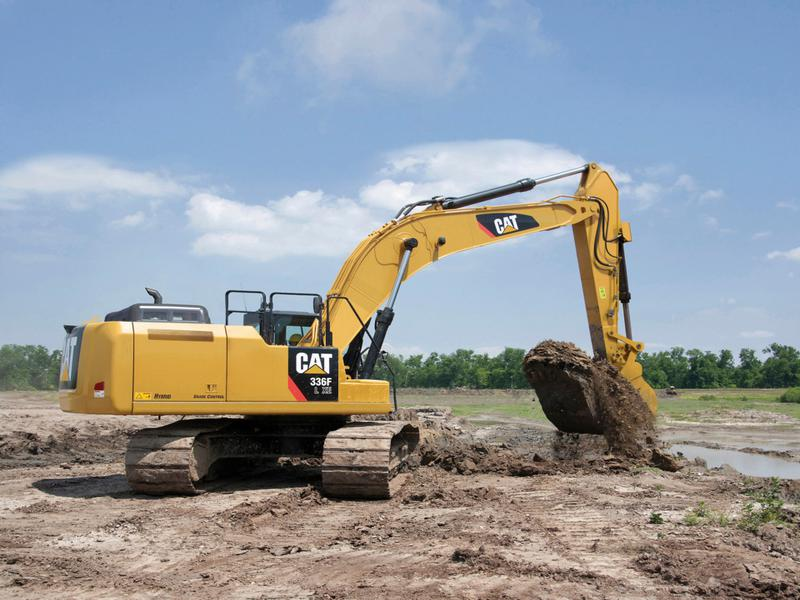shovel: (49, 159, 663, 504)
